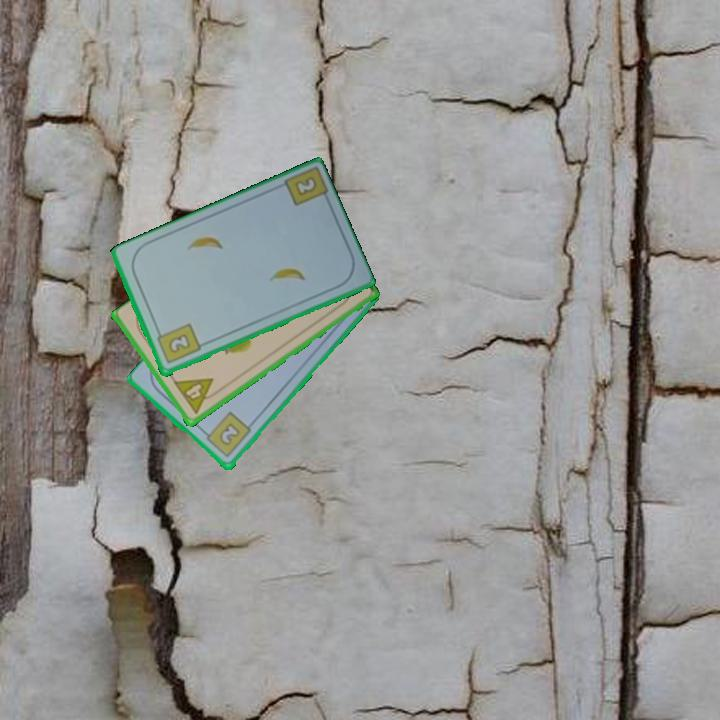2b: (200, 409, 254, 461), (153, 320, 203, 367), (291, 173, 320, 199)
4p: (171, 374, 223, 417)
